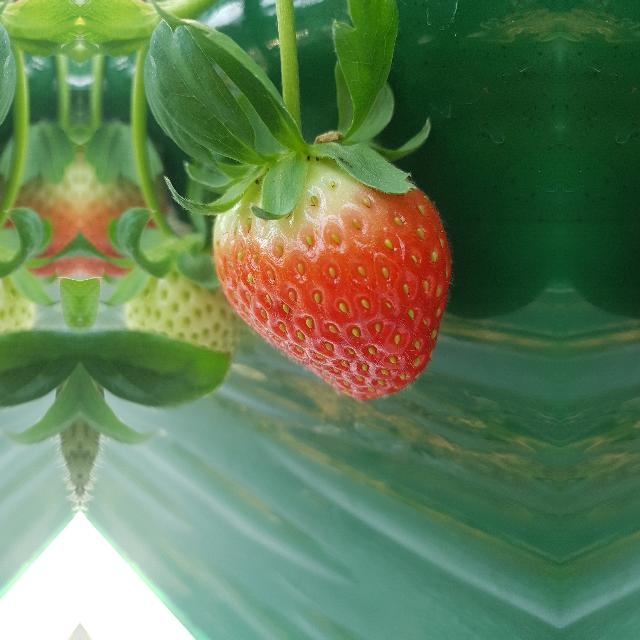Health_75: (211, 152, 454, 400)
